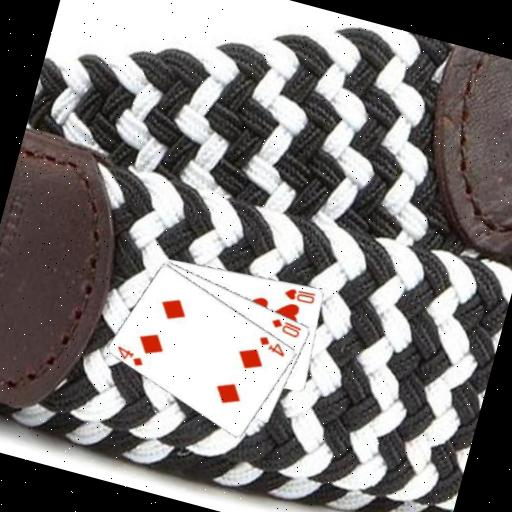10D: (266, 313, 304, 340)
10H: (280, 282, 317, 307)
4D: (253, 331, 290, 359), (111, 341, 148, 369)
